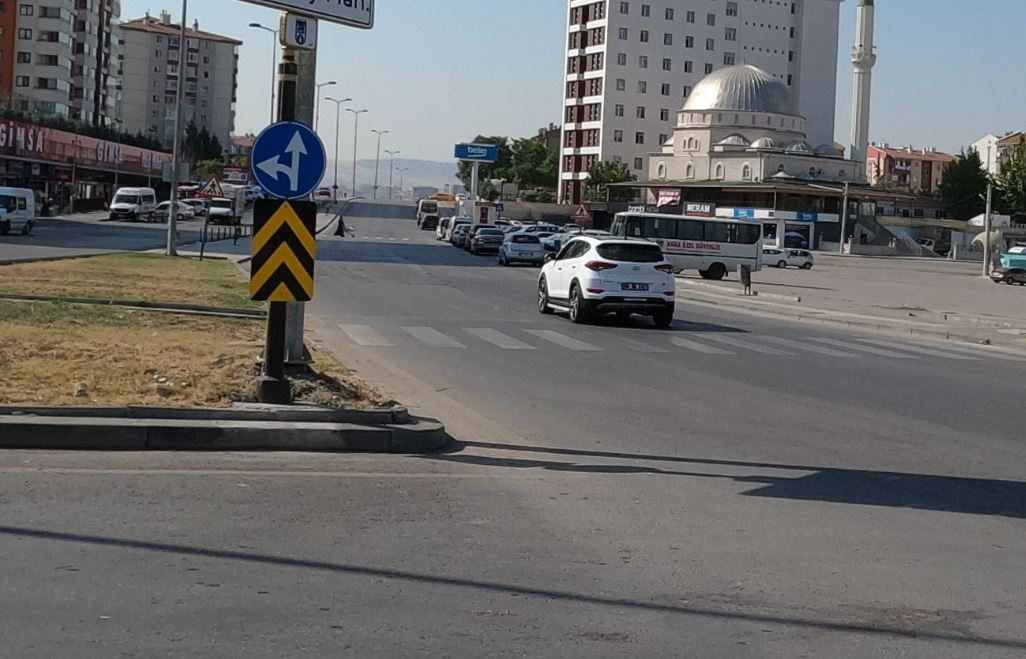ileri ve Sola Mecburi Don: (250, 112, 336, 205)
